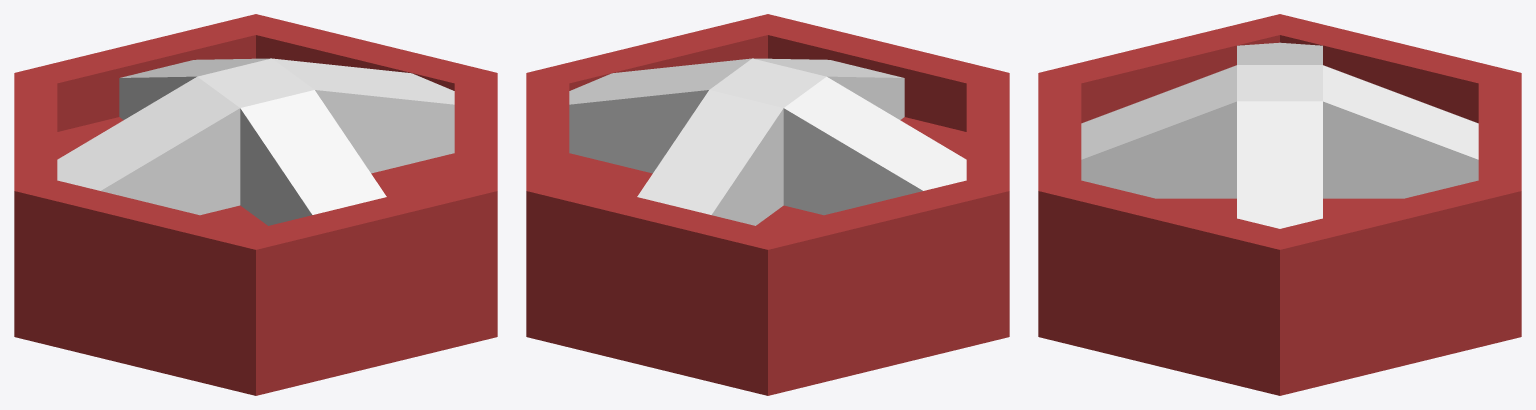
File: r2c_red_cross.fbx
3 renders of one model, left to right at view 1: azimuth 30°, elevation 25°; view 2: azimuth 150°, elevation 25°; view 3: azimuth 270°, elevation 25°, orthographic.
Visible parts, largest first — view 1: 개체_1, 개체_2; view 2: 개체_1, 개체_2; view 3: 개체_1, 개체_2.
Part boxes in pixels (x1,y1,x2,y2): 개체_1: (14,14,497,395); 개체_2: (57,58,454,225); 개체_1: (526,14,1009,395); 개체_2: (569,58,966,225); 개체_1: (1038,14,1521,395); 개체_2: (1081,42,1478,228).
Bounding box in the file's own units: 5.2 × 2 × 4.5.
